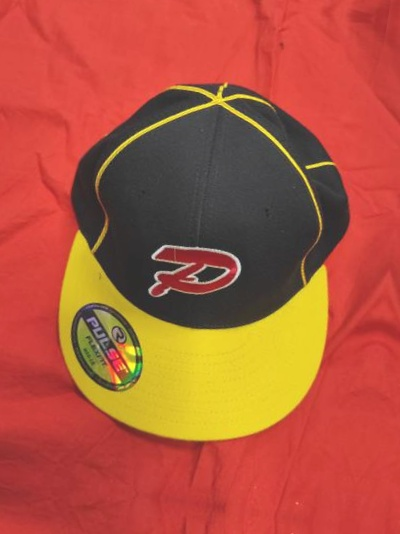Hat: (12, 48, 381, 460), (395, 108, 400, 520)
